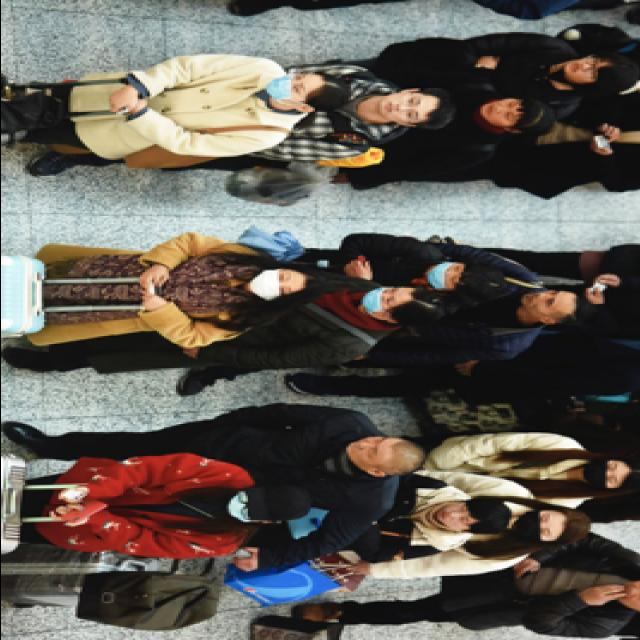mask: (247, 267, 297, 301), (266, 70, 312, 102), (424, 258, 468, 290), (362, 285, 405, 315), (516, 509, 556, 541), (580, 459, 620, 488), (228, 491, 254, 523)
no_mask: (376, 90, 426, 124), (345, 435, 391, 464), (482, 98, 525, 128), (522, 288, 566, 315), (564, 56, 606, 82), (438, 502, 472, 530)
